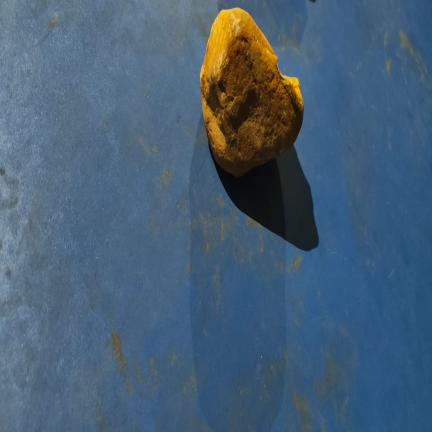Rocks: (201, 8, 303, 176)
